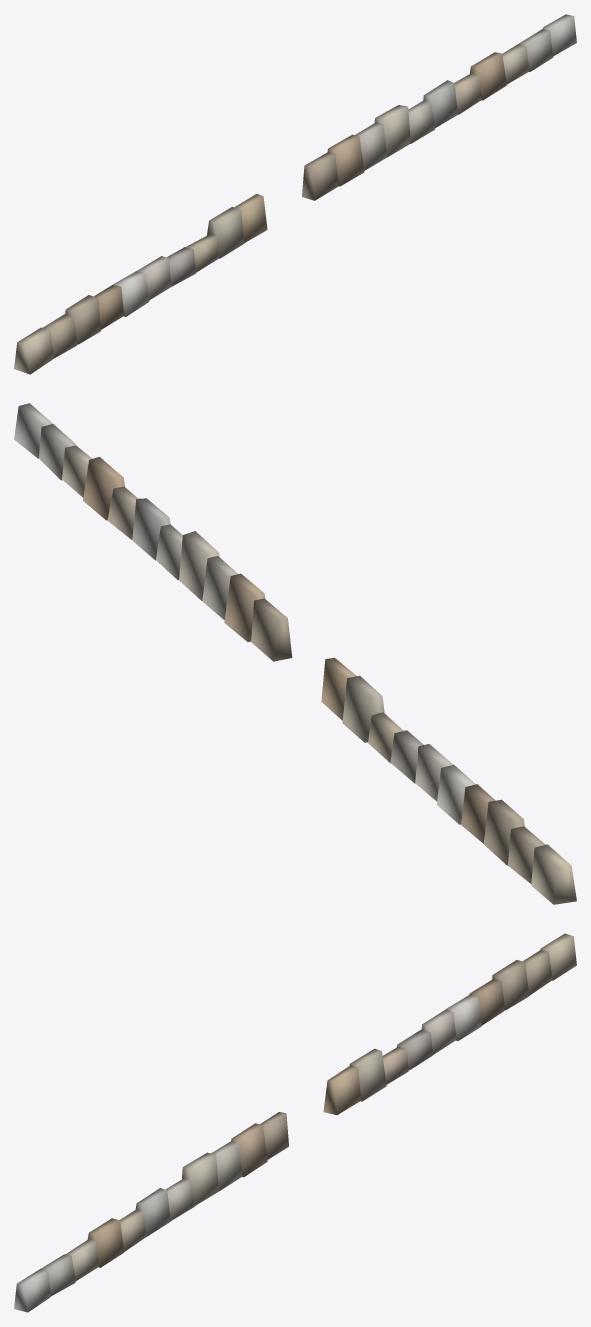
Rendered from farm_-23_-22_far.glb.
3 views of the same model, one above another, from view 1: azimuth 90°, elevation 25°; view 2: azimuth 150°, elevation 25°; view 3: azimuth 270°, elevation 25° (orthographic). The views are drawn at different scales.
Visible parts, largest first — view 1: geometry_0; view 2: geometry_0; view 3: geometry_0.
Part boxes in pixels (x1,y1,x2,y2): geometry_0: (14, 14, 576, 374); geometry_0: (14, 403, 576, 904); geometry_0: (14, 933, 576, 1312).
Size of the model in its own units: 30.28 by 1.66 by 20.97.
